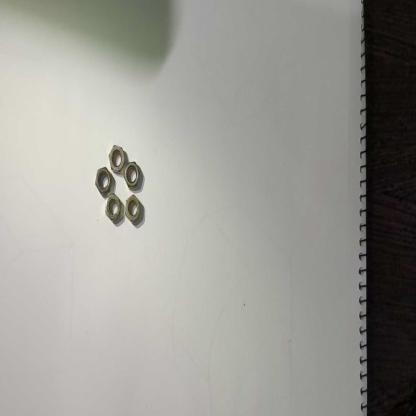NUTS: (107, 140, 126, 179), (103, 191, 124, 226), (123, 191, 143, 223), (93, 164, 112, 195), (122, 159, 140, 191)
